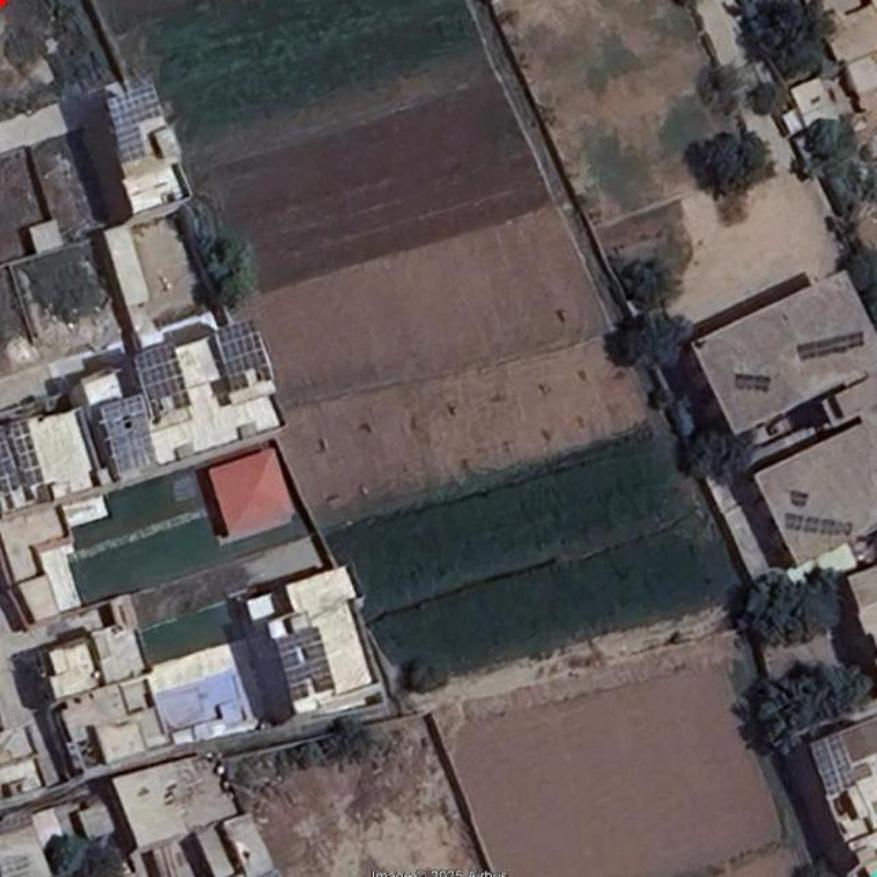Solarpanel: (106, 85, 177, 162), (277, 626, 337, 697), (219, 320, 274, 391), (136, 342, 188, 417), (812, 734, 857, 798), (798, 330, 864, 359), (804, 514, 854, 536), (733, 370, 771, 392), (792, 489, 807, 506), (787, 512, 802, 527)
